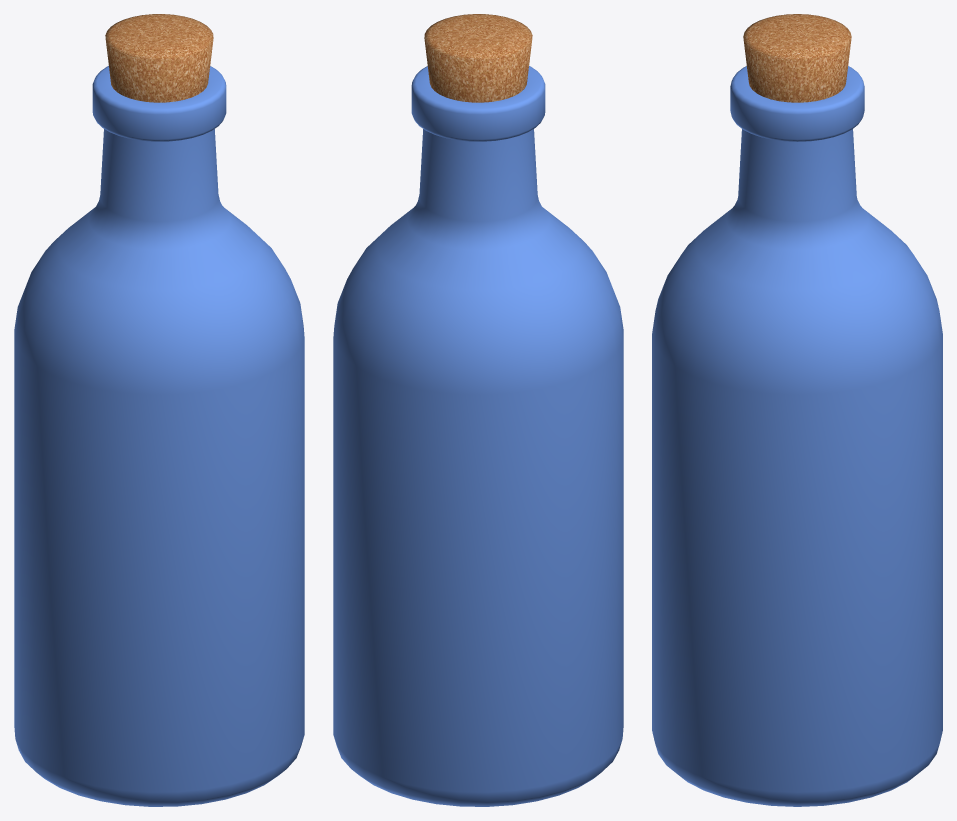
The model's file is WaterBottle.fbx.
The picture shows the model from 3 angles, left to right: view 1: azimuth 30°, elevation 25°; view 2: azimuth 150°, elevation 25°; view 3: azimuth 270°, elevation 25°; orthographic projection.
Parts seen in each view (by area): view 1: Bottle, Cork; view 2: Bottle, Cork; view 3: Bottle, Cork.
Part boxes in pixels (left/top/right/bottom): Bottle: left=14, top=66, right=304, bottom=806; Cork: left=105, top=14, right=213, bottom=102; Bottle: left=333, top=66, right=623, bottom=806; Cork: left=424, top=14, right=532, bottom=102; Bottle: left=652, top=66, right=942, bottom=806; Cork: left=743, top=14, right=851, bottom=102.
Bounding box in the file's own units: 11.78 × 32.36 × 11.78.
